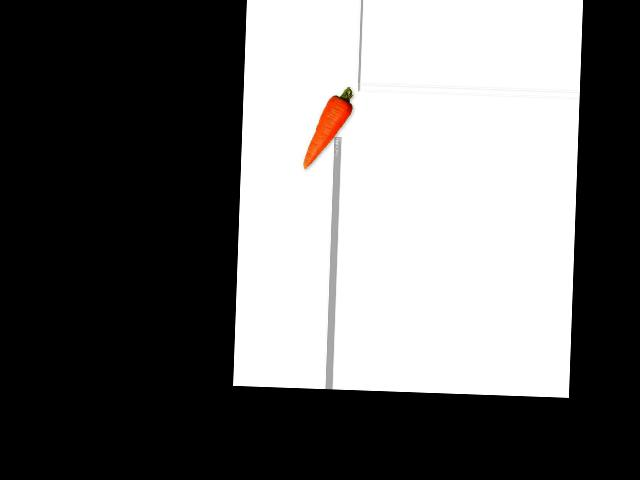carrot: (301, 85, 355, 171)
